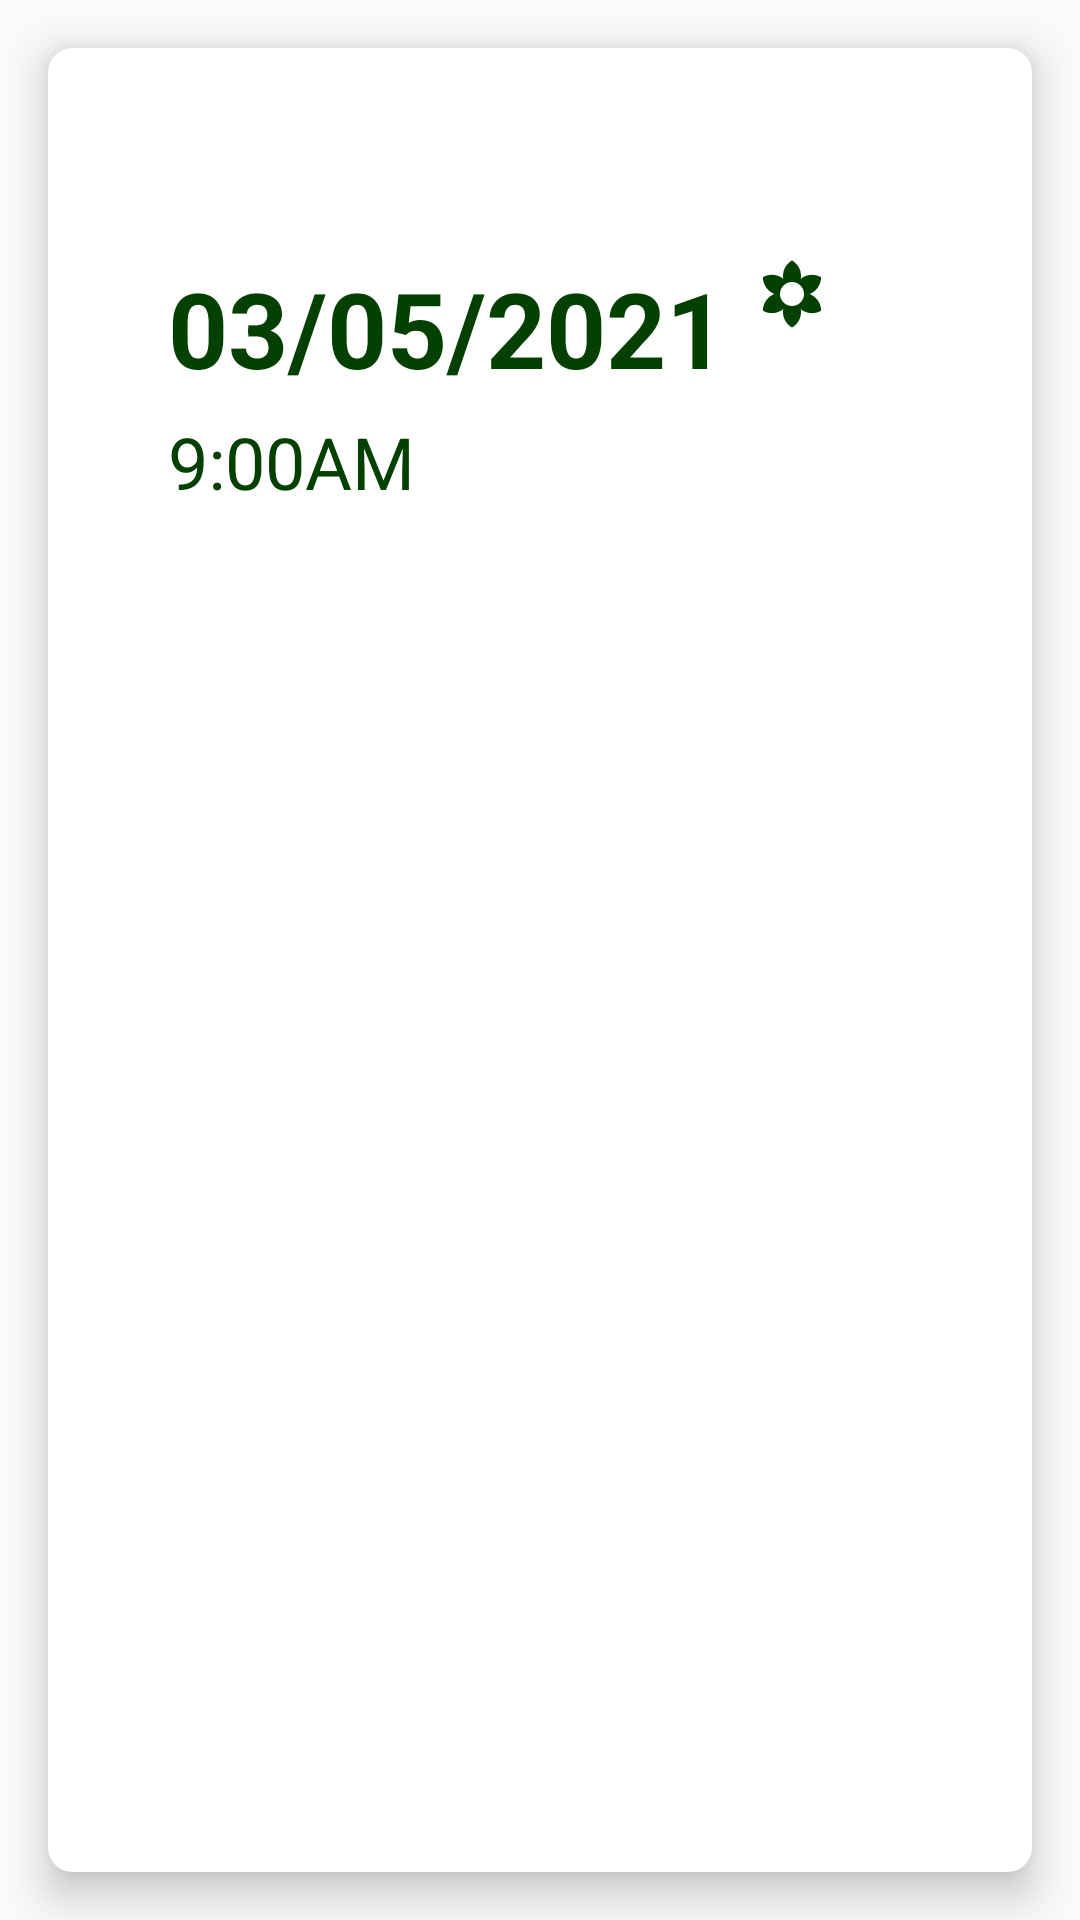

Screen size 1080*1920. Icon name, then its center in pixels as point (x, y):
filter vintage: point (792, 294)
